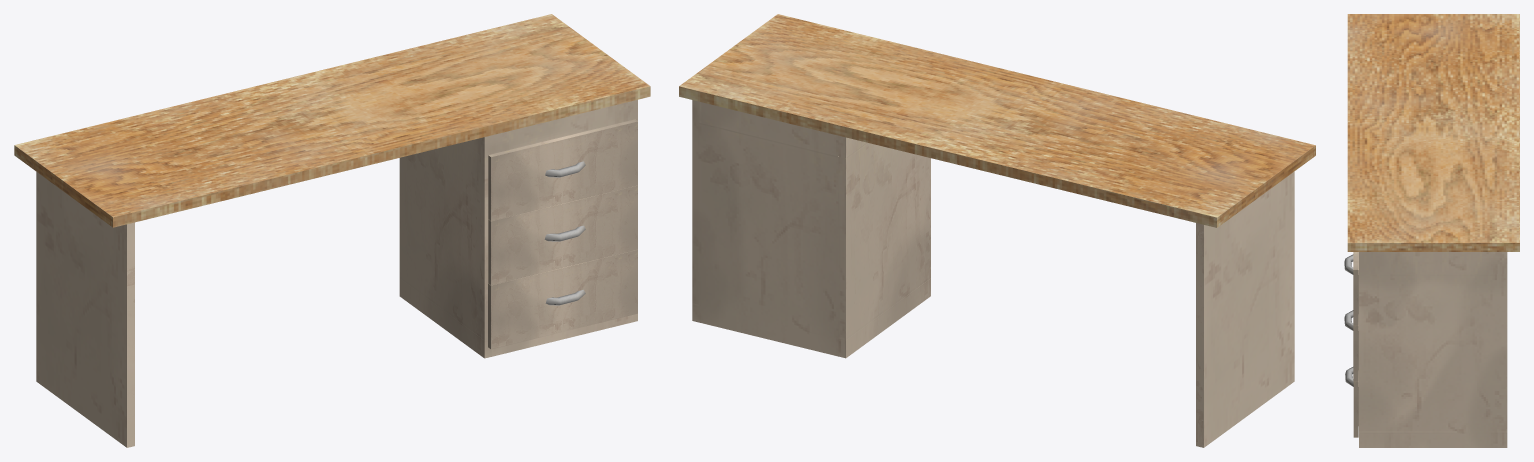
Rendered from Desk1_Drawer1_OPEN.fbx.
3 renders of one model, left to right at view 1: azimuth 30°, elevation 25°; view 2: azimuth 150°, elevation 25°; view 3: azimuth 270°, elevation 25°, orthographic. The views are drawn at different scales.
Parts seen in each view (by area): view 1: Desk, polySurface46, polySurface54, polySurface50; view 2: Desk; view 3: Desk, polySurface46, polySurface50, polySurface54.
Part boxes in pixels (x1,y1,x2,y2): Desk: (14, 14, 650, 447); polySurface46: (488, 119, 637, 220); polySurface54: (488, 249, 637, 349); polySurface50: (488, 185, 637, 285); Desk: (679, 14, 1315, 447); Desk: (1347, 14, 1519, 447); polySurface46: (1344, 252, 1358, 325); polySurface50: (1344, 310, 1358, 381); polySurface54: (1345, 367, 1358, 437).
Bounding box in the file's own units: 8.44 × 3.57 × 2.74.
1 material, 1 textured.
